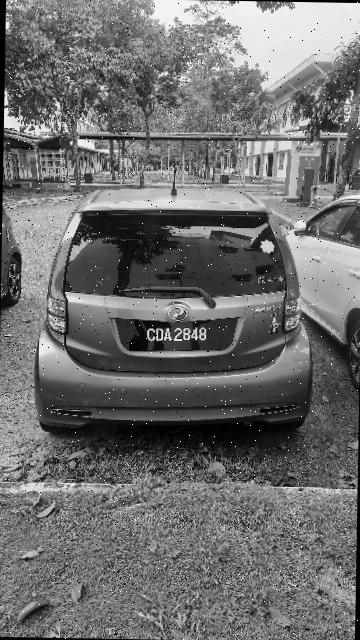License_Plate: (103, 313, 249, 359)
car: (31, 183, 319, 445)
